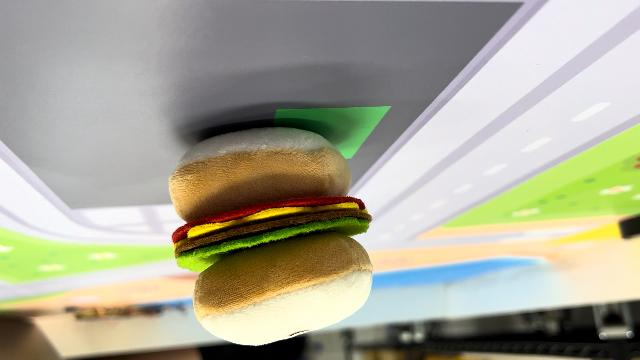sandwich: (165, 124, 378, 346)
